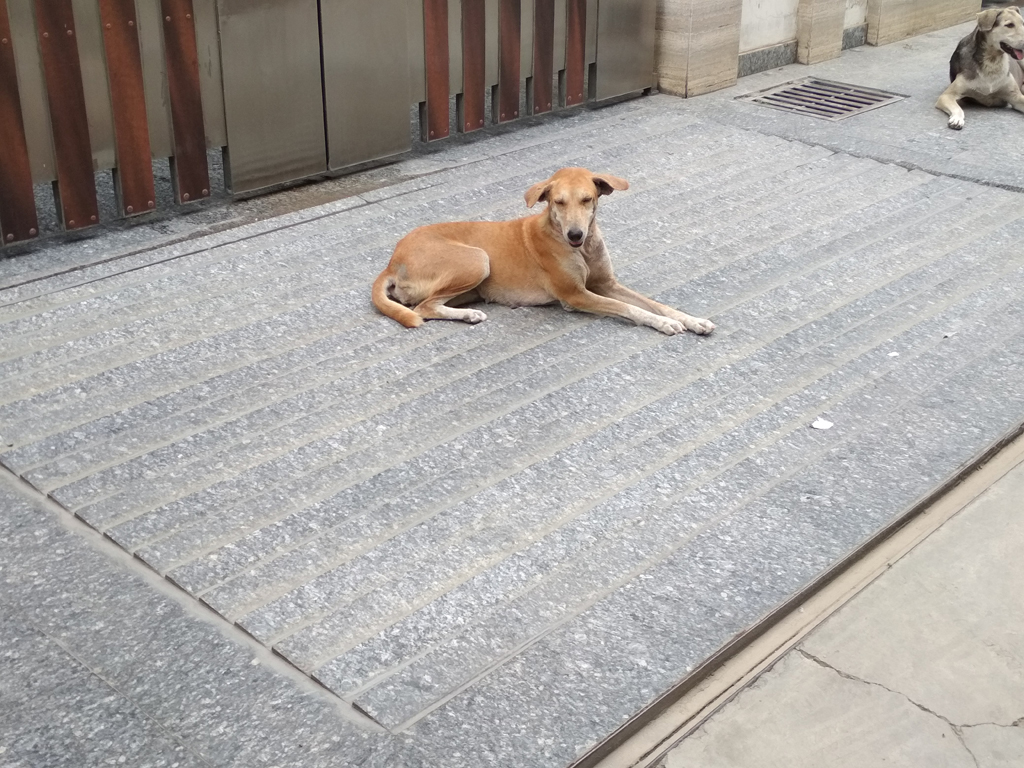dog: (372, 167, 719, 336), (936, 5, 1023, 130)
